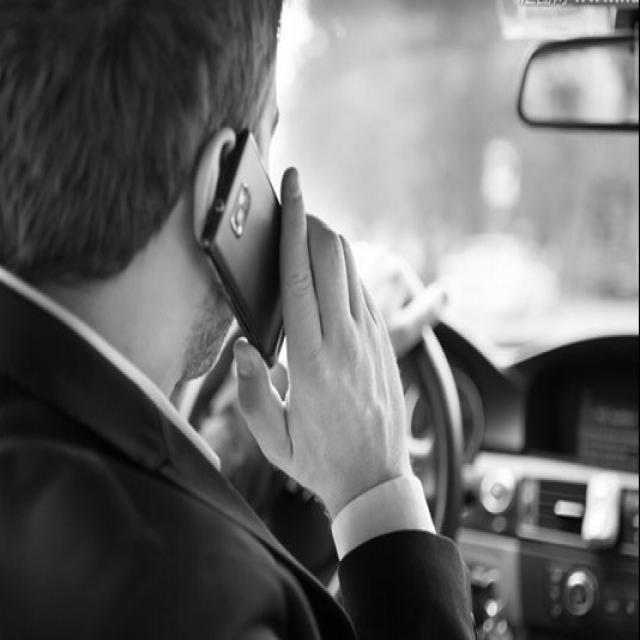phone: (180, 116, 405, 485)
